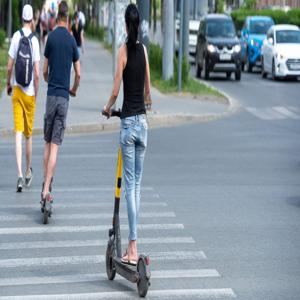human on a scooter: (101, 3, 154, 300), (38, 1, 81, 225)
